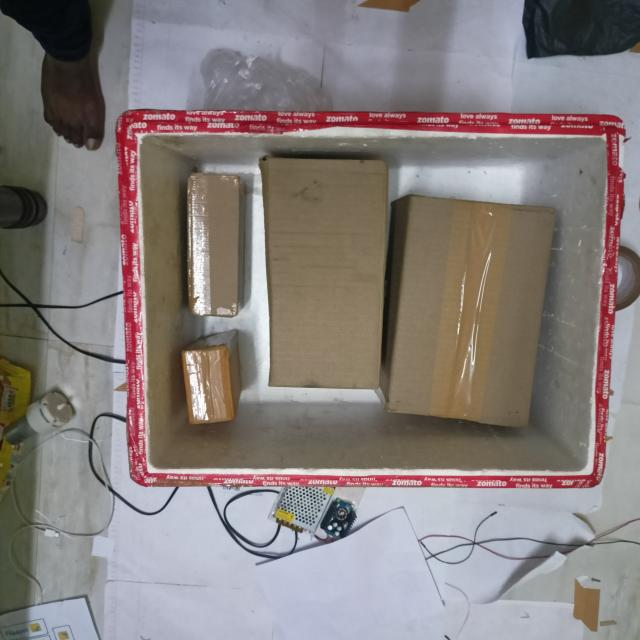box: (389, 197, 562, 430), (266, 158, 386, 383), (190, 175, 235, 316), (184, 350, 234, 425)
